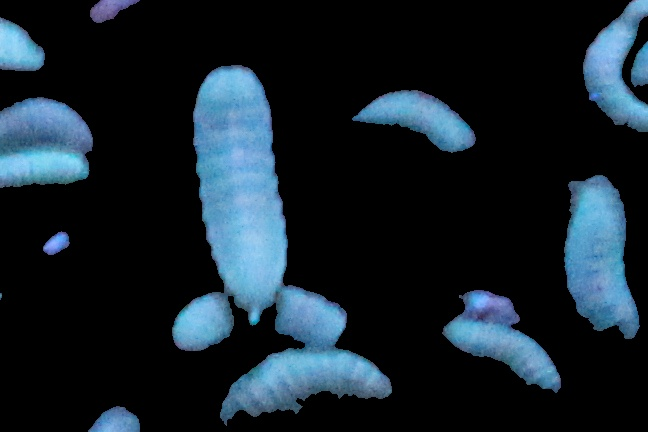larvae: (184, 65, 292, 312), (564, 173, 645, 344), (212, 350, 398, 420), (170, 293, 350, 359), (431, 318, 562, 406), (347, 83, 478, 157), (581, 17, 648, 134), (1, 95, 96, 155), (1, 155, 86, 202), (1, 6, 45, 69)
